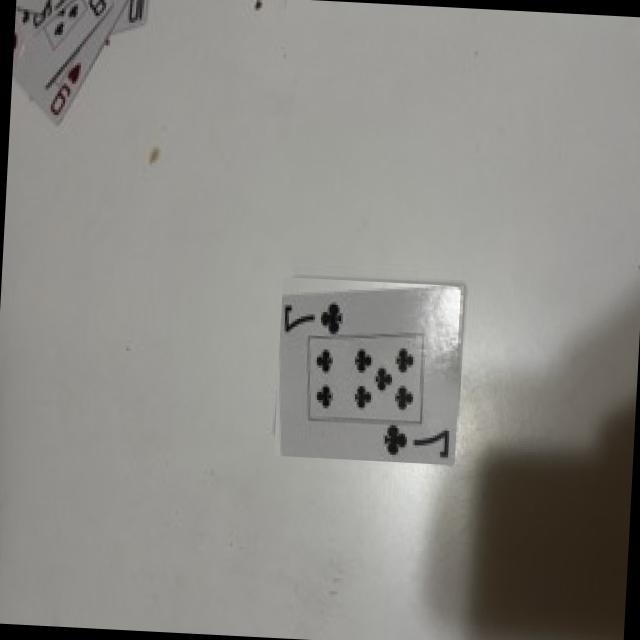7 of clubs: (282, 285, 462, 464)
